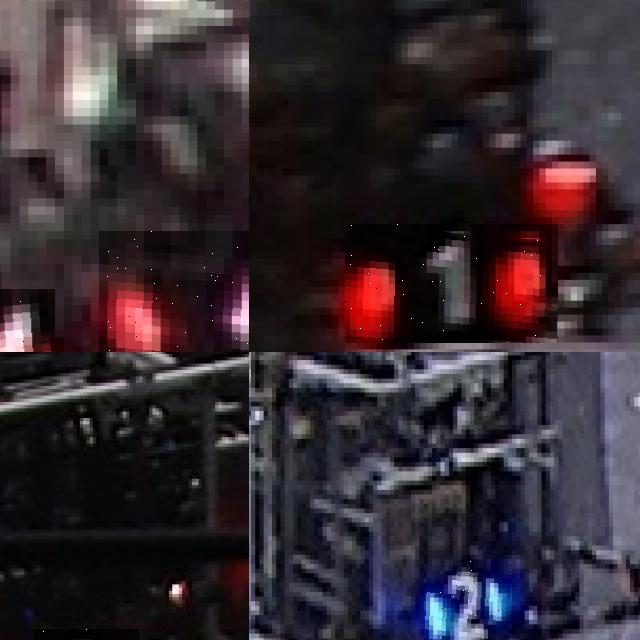B2: (423, 559, 512, 640)
R1: (345, 224, 558, 343)
R4: (99, 231, 249, 352), (0, 288, 55, 352)
